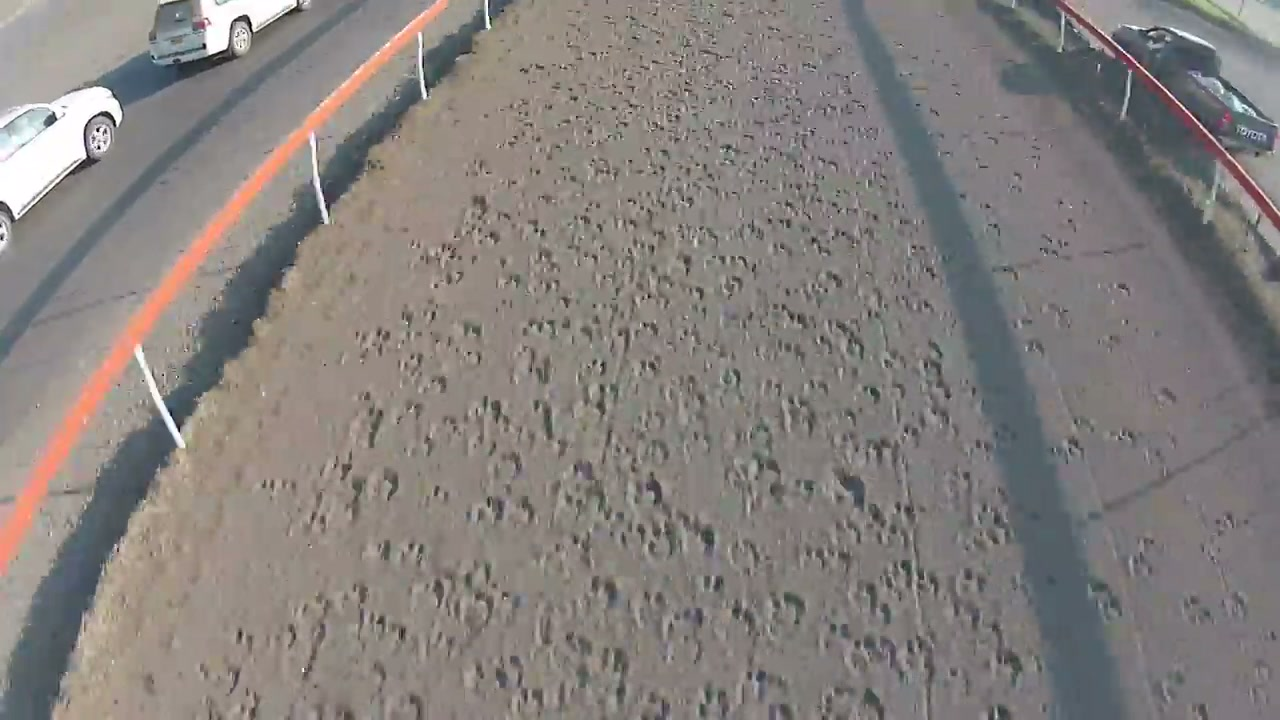animal_foot_print: (273, 82, 1028, 702)
